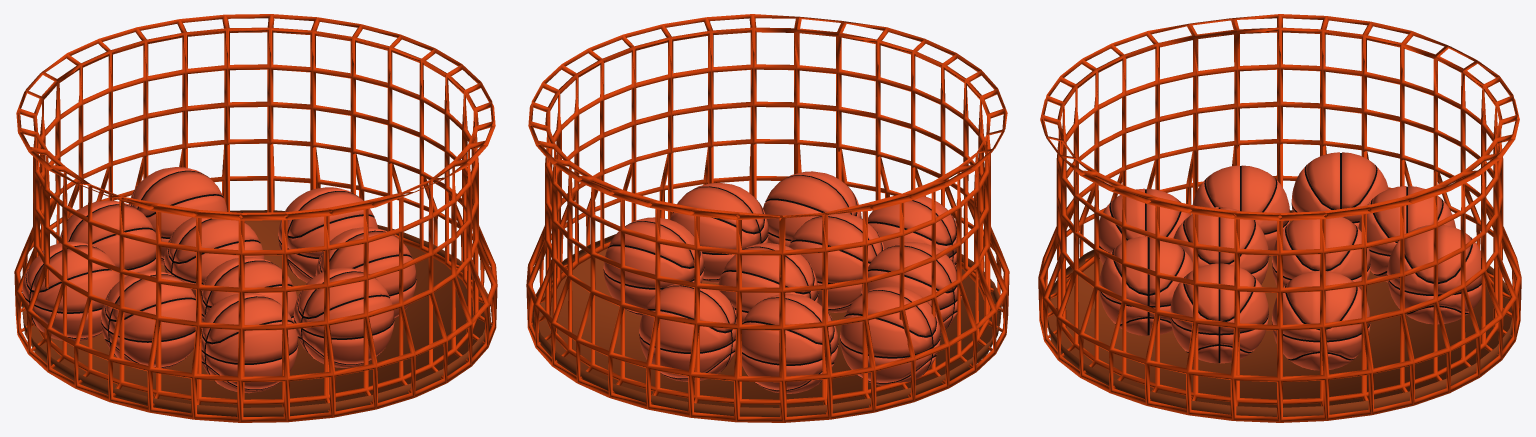
The model's file is CorsinaBoll.fbx.
The picture shows the model from 3 angles, left to right: view 1: azimuth 30°, elevation 25°; view 2: azimuth 150°, elevation 25°; view 3: azimuth 270°, elevation 25°; orthographic projection.
Parts seen in each view (by area): view 1: Circle, Circle.001, Bool.005, Bool.004, Bool.007, Bool, Bool.003, Bool.008, Cube, Bool.006, Bool.001, Bool.002; view 2: Circle, Circle.001, Bool.008, Bool, Cube, Bool.003, Bool.001, Bool.002, Bool.004, Bool.007, Bool.006, Bool.005; view 3: Circle, Circle.001, Bool.001, Bool.003, Cube, Bool.004, Bool, Bool.006, Bool.007, Bool.002, Bool.008, Bool.005.
Part boxes in pixels (box(x1,y1,x2,y2)): Circle: box(14, 14, 497, 422); Circle.001: box(22, 210, 491, 416); Bool.005: box(201, 293, 298, 393); Bool.004: box(293, 267, 394, 367); Bool.007: box(101, 270, 195, 369); Bool: box(22, 241, 119, 341); Bool.003: box(278, 187, 377, 282); Bool.008: box(58, 200, 155, 277); Cube: box(129, 167, 227, 265); Bool.006: box(164, 217, 264, 297); Bool.001: box(315, 227, 416, 318); Bool.002: box(201, 257, 297, 323); Circle: box(526, 14, 1009, 422); Circle.001: box(532, 218, 1001, 416); Bool.008: box(742, 293, 838, 393); Bool: box(840, 286, 940, 385); Cube: box(639, 281, 736, 381); Bool.003: box(603, 217, 704, 316); Bool.001: box(670, 182, 768, 283); Bool.002: box(789, 213, 884, 312); Bool.004: box(763, 171, 861, 246); Bool.007: box(861, 242, 961, 332); Bool.006: box(718, 243, 818, 322); Bool.005: box(868, 196, 956, 265); Circle: box(1038, 14, 1521, 422); Circle.001: box(1047, 210, 1512, 416); Bool.001: box(1170, 263, 1268, 363); Bool.003: box(1272, 270, 1370, 370); Cube: box(1387, 225, 1481, 324); Bool.004: box(1099, 236, 1192, 335); Bool: box(1291, 152, 1388, 227); Bool.006: box(1272, 217, 1370, 289); Bool.007: box(1191, 165, 1289, 257); Bool.002: box(1173, 207, 1268, 284); Bool.008: box(1358, 186, 1455, 282); Bool.005: box(1099, 188, 1189, 264).
Bounding box in the file's own units: 170 × 80.68 × 170.
